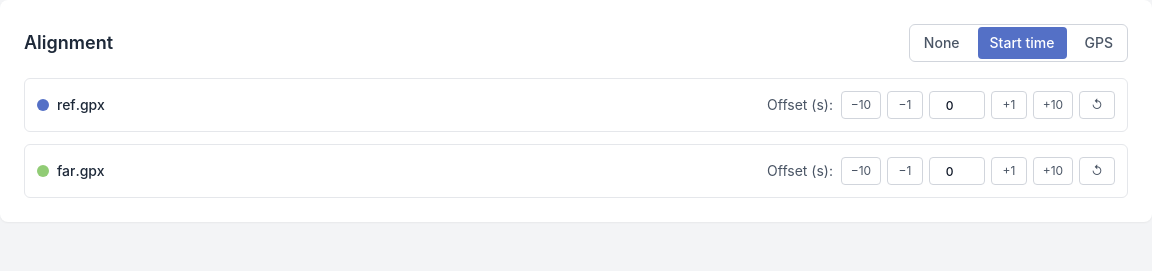
Test: AlignmentPanel › lists activities without a GPS match in the status line
Click the button "GPS" at (1099, 43), box [1072,27,1125,59]
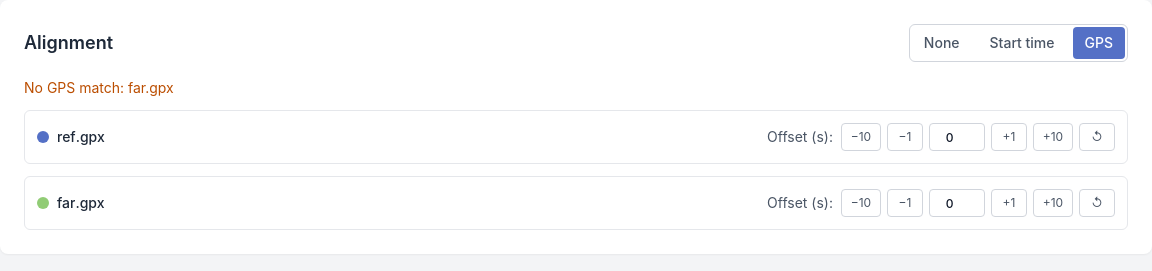
Expected: the text "No GPS match: far.gpx" is shown, [24,79,174,96]
